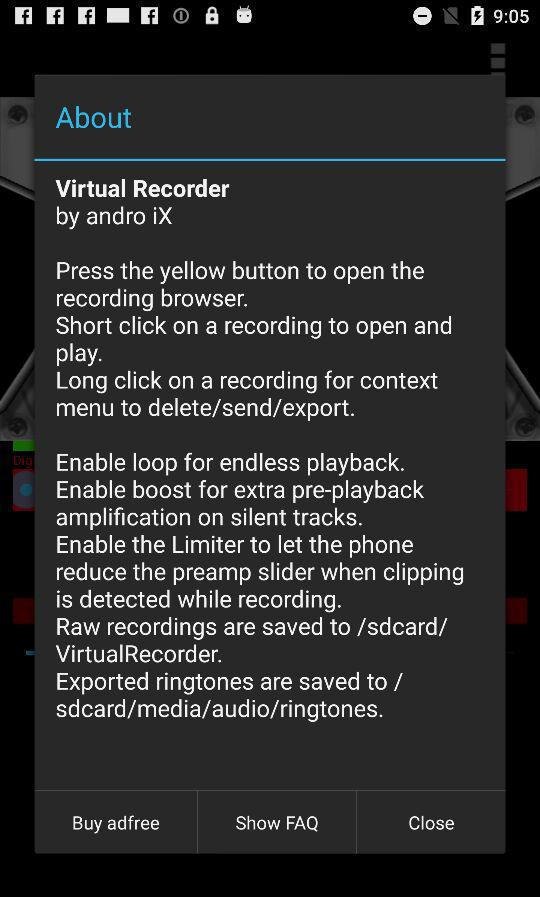Modal: (36, 75, 505, 853)
Text: (56, 452, 464, 725), (56, 260, 452, 423), (55, 179, 231, 231), (56, 106, 133, 130)
TextButton: (36, 790, 198, 853), (198, 790, 357, 853), (357, 790, 505, 853)
UpperTaskBar: (1, 1, 540, 27)
